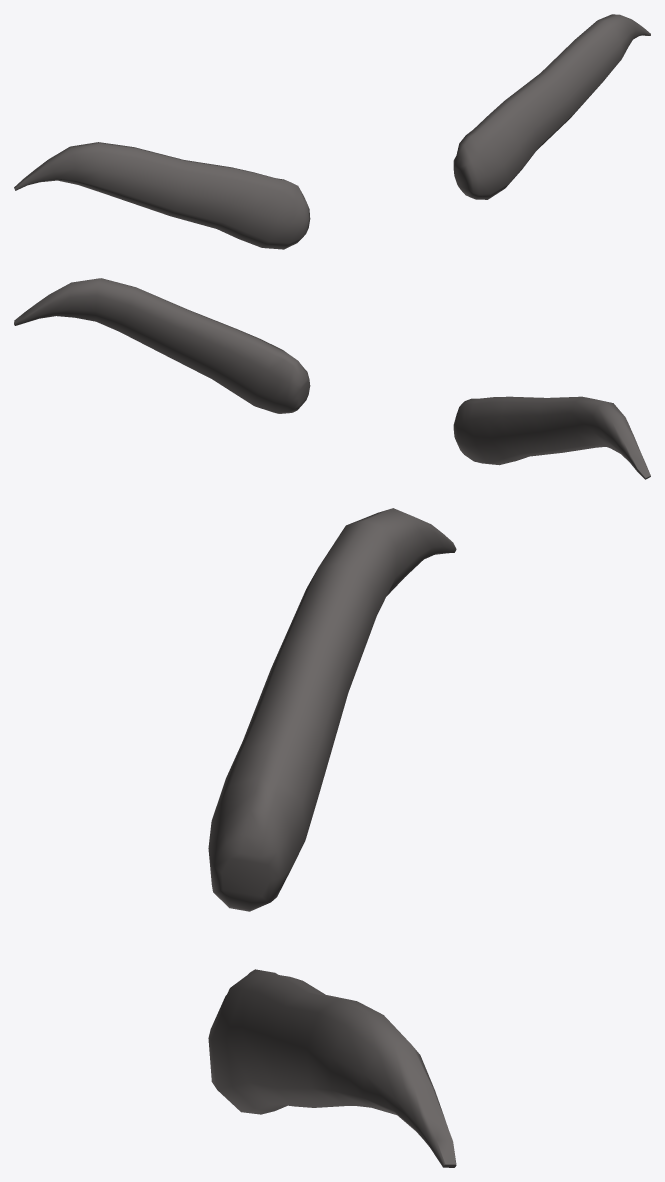
The model's file is Eyebrows_02_04.fbx.
3 renders of one model, top to bottom at view 1: azimuth 30°, elevation 25°; view 2: azimuth 150°, elevation 25°; view 3: azimuth 270°, elevation 25°, orthographic. The views are drawn at different scales.
Parts seen in each view (by area): view 1: Eyebrows_02_04; view 2: Eyebrows_02_04; view 3: Eyebrows_02_04.
Boxes of the visible parts, <box> form: Eyebrows_02_04: <box>14,14,650,249</box>; Eyebrows_02_04: <box>14,278,650,479</box>; Eyebrows_02_04: <box>208,508,456,1167</box>.
Bounding box in the file's own units: 18.03 × 3.24 × 3.04.
